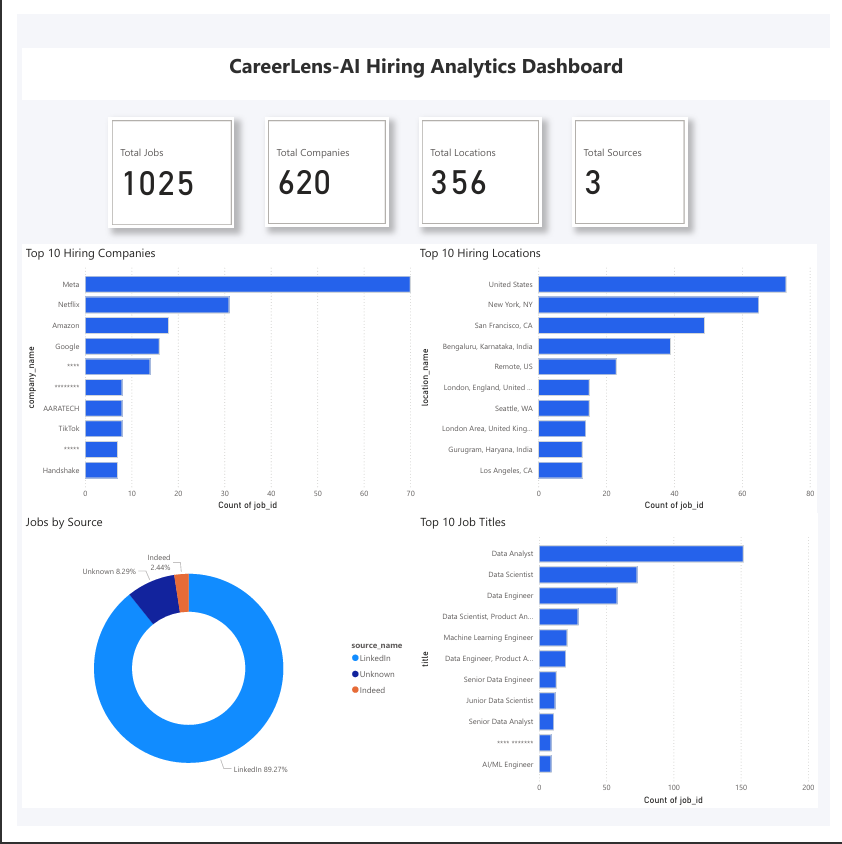

Layout of this report page (visuals, bound fields, positions):
{"tool":"powerbi","page":{"name":"Page 1","canvas":[1300,1300],"ordinal":0},"visuals":[{"type":"cardVisual","fields":{"Data":["Measures (2).Total Jobs"]},"box":[146.9,164.1,201.6,176.6],"z":0},{"type":"cardVisual","fields":{"Data":["Measures (2).Total Companies"]},"box":[397.4,164.1,196.9,175],"z":1000},{"type":"cardVisual","fields":{"Data":["Measures (2).Total Locations"]},"box":[643.2,164.1,195.3,175],"z":2000},{"type":"cardVisual","fields":{"Data":["Measures (2).Total Sources"]},"box":[887.5,164.1,184.4,175],"z":3000},{"type":"clusteredBarChart","title":"Top 10 Hiring Companies","fields":{"Category":["public companies.company_name"],"Y":["CountNonNull(public job_postings.job_id)"]},"box":[9.4,367.2,631.2,431.2],"z":4000},{"type":"clusteredBarChart","title":"Top 10 Hiring Locations","fields":{"Category":["public locations.location_name"],"Y":["CountNonNull(public job_postings.job_id)"]},"box":[639.1,367.2,640.6,431.2],"z":5000},{"type":"textbox","box":[8.9,53.3,1291.1,82.2],"z":5001},{"type":"donutChart","title":"Jobs by Source","fields":{"Category":["public sources.source_name"],"Y":["CountNonNull(public job_postings.job_id)"]},"box":[8.9,797.8,631.1,471.1],"z":5002},{"type":"clusteredBarChart","title":"Top 10 Job Titles","fields":{"Category":["public job_postings.title"],"Y":["CountNonNull(public job_postings.job_id)"]},"box":[640,797.8,640,471.1],"z":5003}]}

Visuals, with their boxes in screenshot pixels (x1, y1, x2, y2), scaled from the page's 1300x1300 canvas onto the 842x844 screenshot:
cardVisual - Measures (2).Total Jobs: (x1=95, y1=107, x2=226, y2=221)
cardVisual - Measures (2).Total Companies: (x1=257, y1=107, x2=385, y2=220)
cardVisual - Measures (2).Total Locations: (x1=417, y1=107, x2=543, y2=220)
cardVisual - Measures (2).Total Sources: (x1=575, y1=107, x2=694, y2=220)
"Top 10 Hiring Companies" clusteredBarChart: (x1=6, y1=238, x2=415, y2=518)
"Top 10 Hiring Locations" clusteredBarChart: (x1=414, y1=238, x2=829, y2=518)
textbox: (x1=6, y1=35, x2=841, y2=88)
"Jobs by Source" donutChart: (x1=6, y1=518, x2=415, y2=824)
"Top 10 Job Titles" clusteredBarChart: (x1=415, y1=518, x2=829, y2=824)
